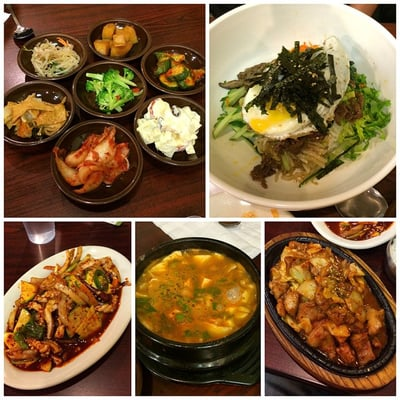curry: (91, 68, 136, 114)
sushi: (206, 2, 396, 204), (263, 233, 396, 387), (135, 237, 260, 368), (52, 121, 143, 208), (134, 94, 205, 167), (4, 82, 76, 152), (73, 60, 148, 119), (17, 33, 87, 81), (141, 44, 205, 95), (88, 19, 151, 62), (319, 220, 395, 250)
